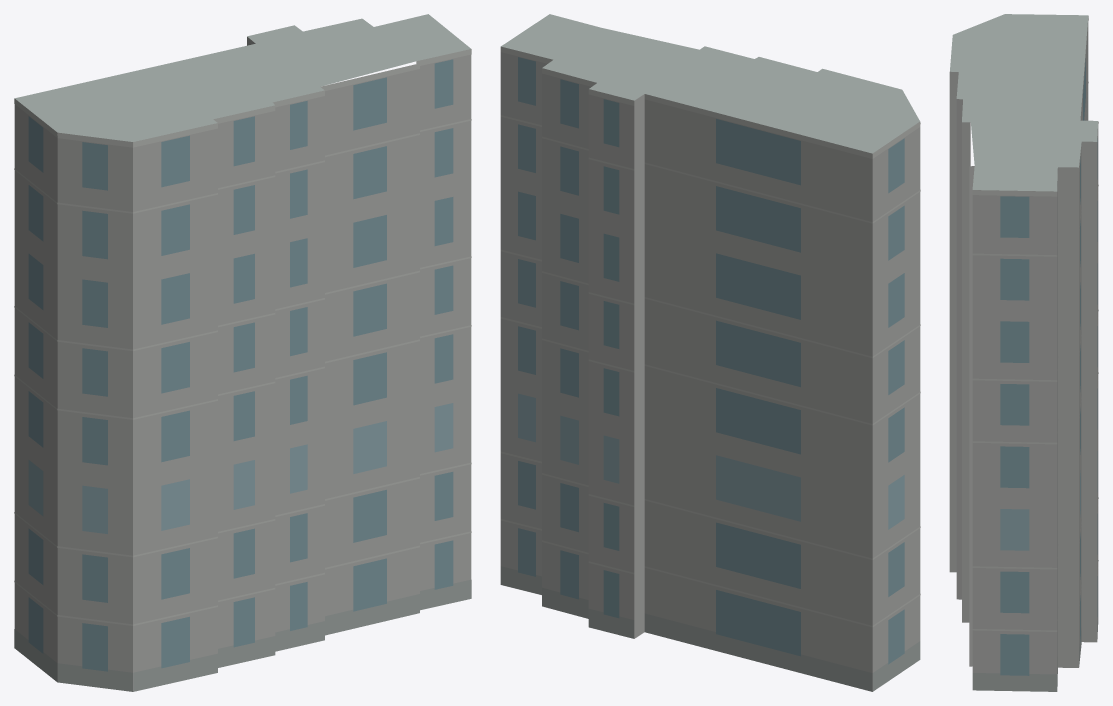
File: survey-upis-32870763.glb
3 views of the same model, side by side, from view 1: azimuth 30°, elevation 25°; view 2: azimuth 150°, elevation 25°; view 3: azimuth 270°, elevation 25° (orthographic). The views are drawn at different scales.
Parts seen in each view (by area): view 1: survey-upis-32870763.tmp; view 2: survey-upis-32870763.tmp; view 3: survey-upis-32870763.tmp.
Boxes of the visible parts, x1,y1,x2,y2 form: survey-upis-32870763.tmp: (14, 14, 471, 691); survey-upis-32870763.tmp: (500, 14, 920, 691); survey-upis-32870763.tmp: (949, 14, 1098, 691).
Size of the model in its own units: 18.36 by 24.09 by 6.5.
